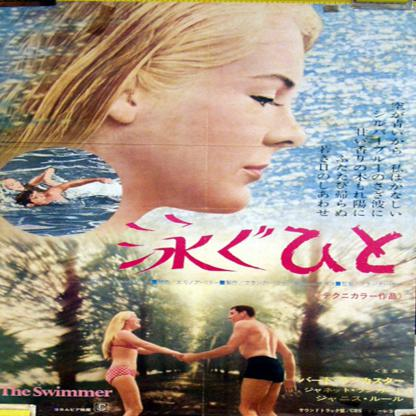face: (140, 29, 308, 216), (6, 180, 26, 192), (30, 192, 49, 203), (229, 310, 242, 326), (129, 315, 142, 329)
